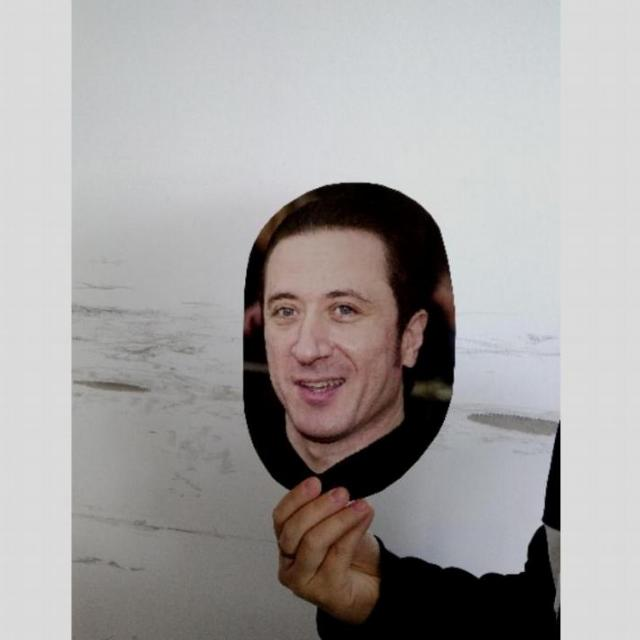photo: (236, 172, 466, 509)
